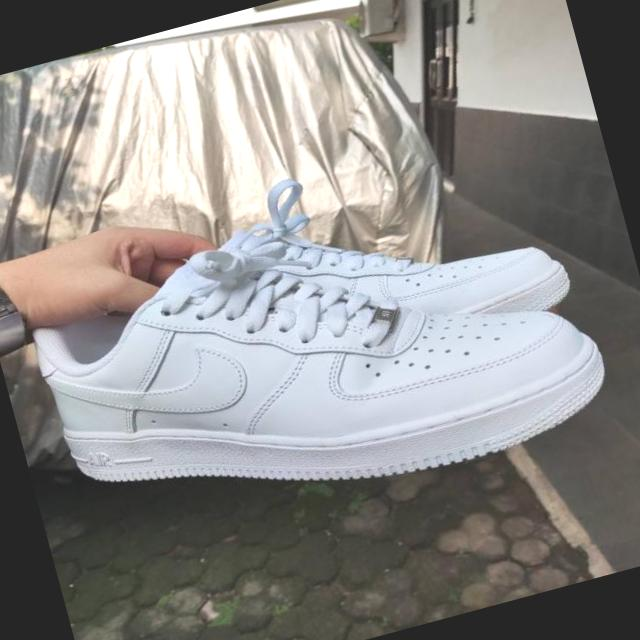nike_original_airforce: (20, 165, 618, 558), (170, 149, 577, 396)
